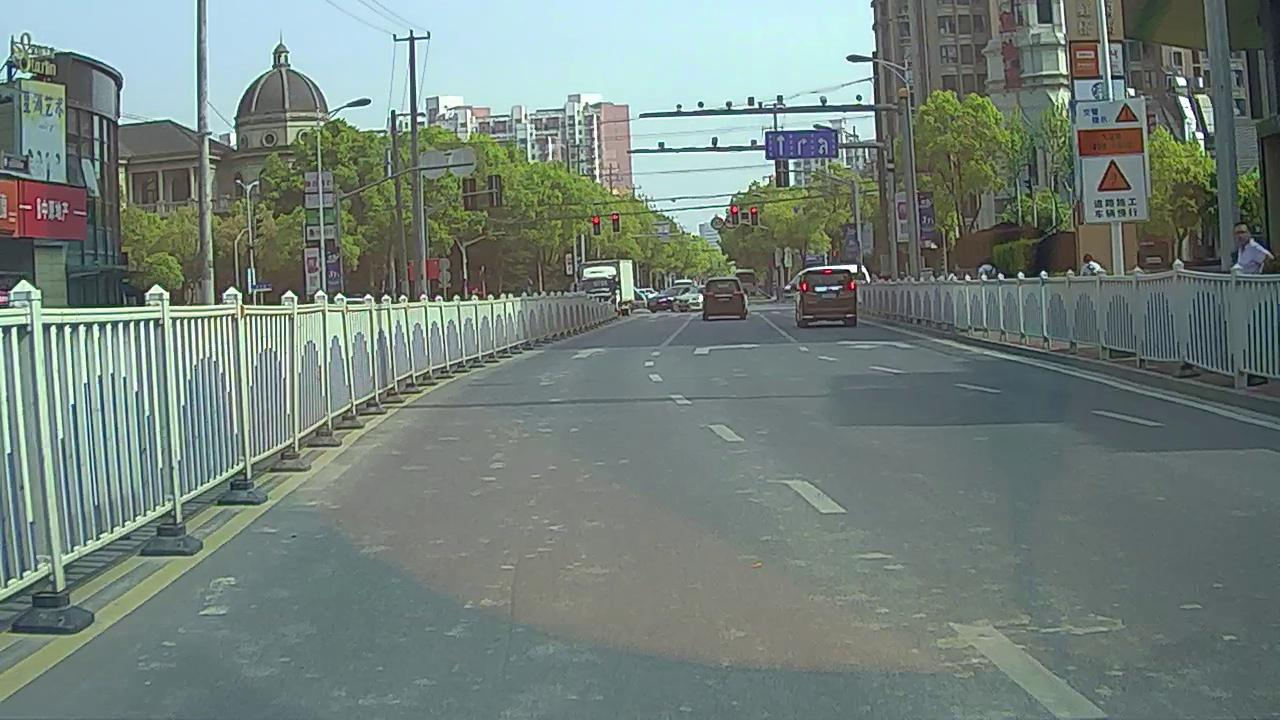traffic_light: (593, 216, 600, 235), (613, 213, 620, 232), (732, 206, 739, 224), (751, 205, 757, 225)
